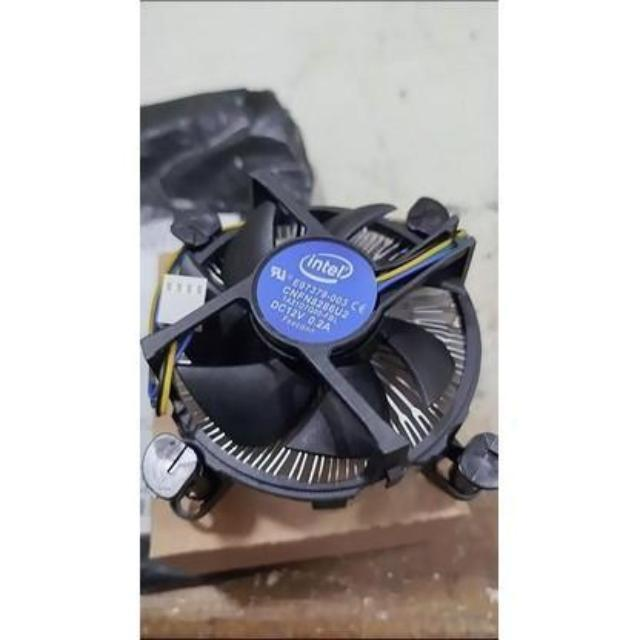CPU_Fan: (164, 198, 493, 500)
